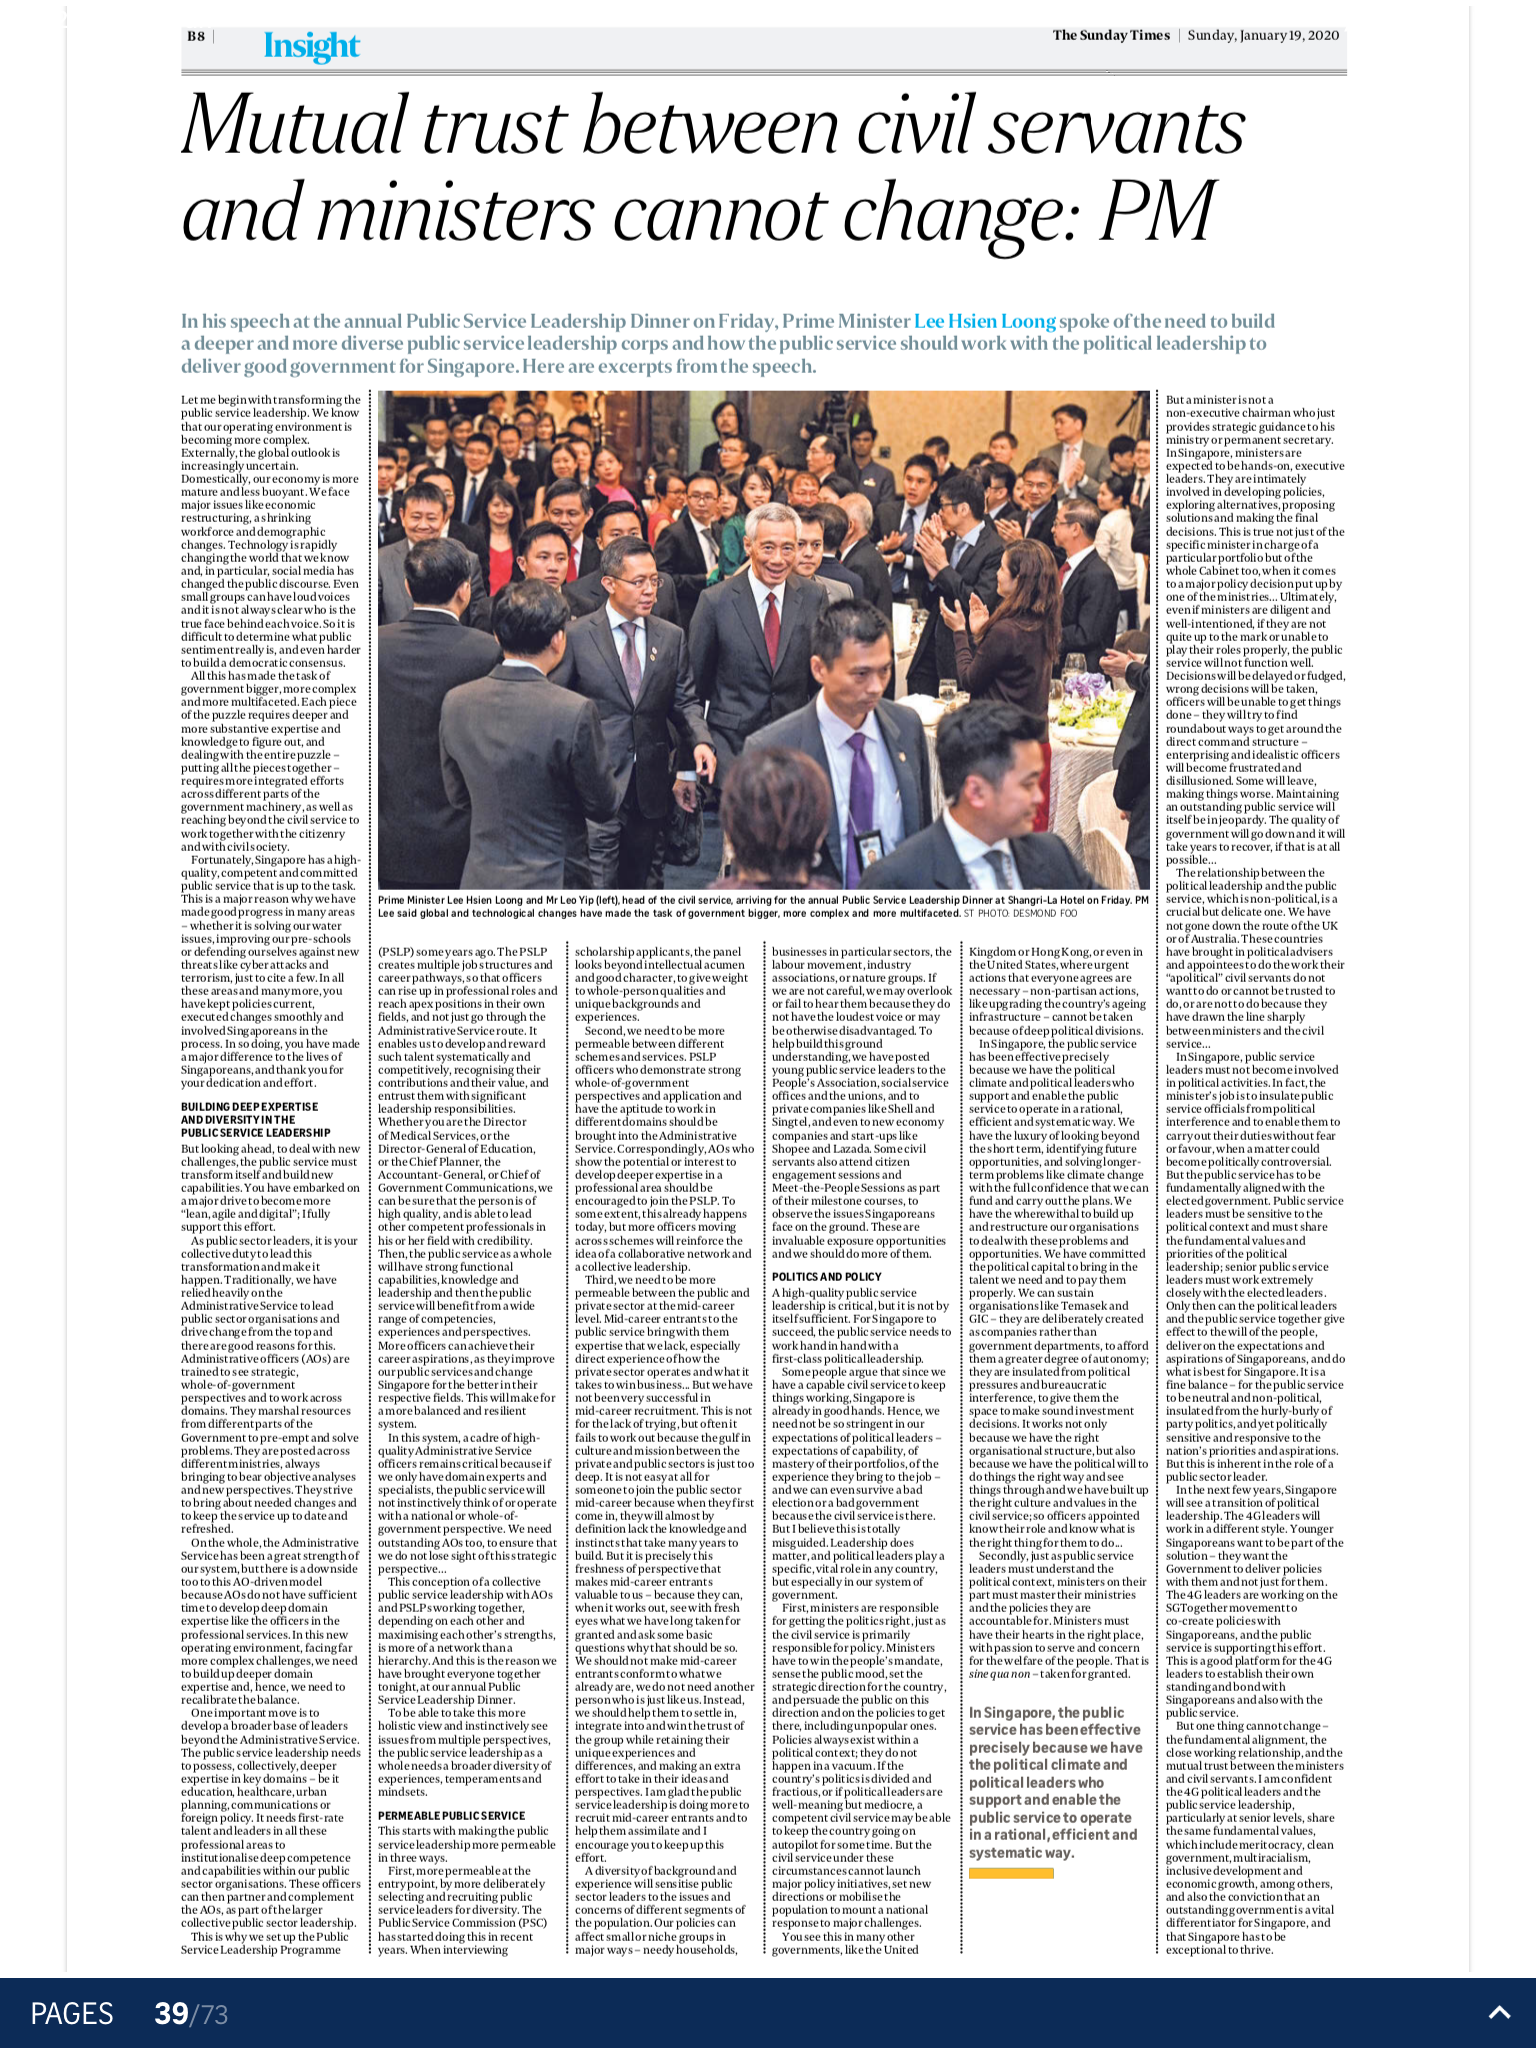Headline: (161, 71, 1278, 268)
